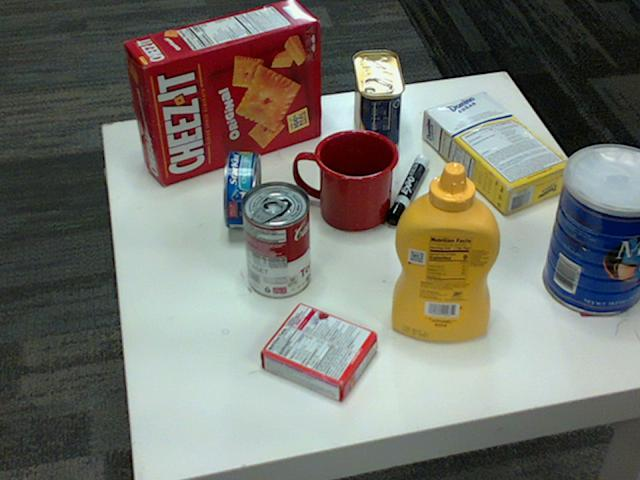cracker_box: (123, 0, 320, 183)
gelatin_box: (257, 302, 374, 403)
large_marker: (385, 158, 429, 224)
master_chef_can: (544, 144, 639, 316)
mug: (294, 127, 399, 230)
mustard_bottle: (390, 162, 500, 341)
potted_meat_can: (350, 51, 403, 150)
sugar_box: (423, 92, 574, 215)
tomato_soup_can: (241, 181, 310, 298)
tuna_fish_can: (222, 150, 261, 228)
